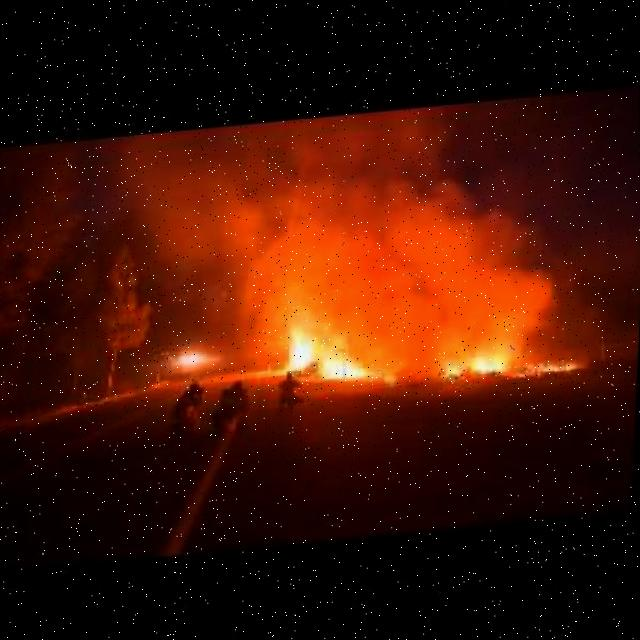fire: (386, 100, 590, 364), (169, 118, 319, 362), (281, 284, 407, 396), (438, 348, 514, 388), (515, 362, 581, 382)
